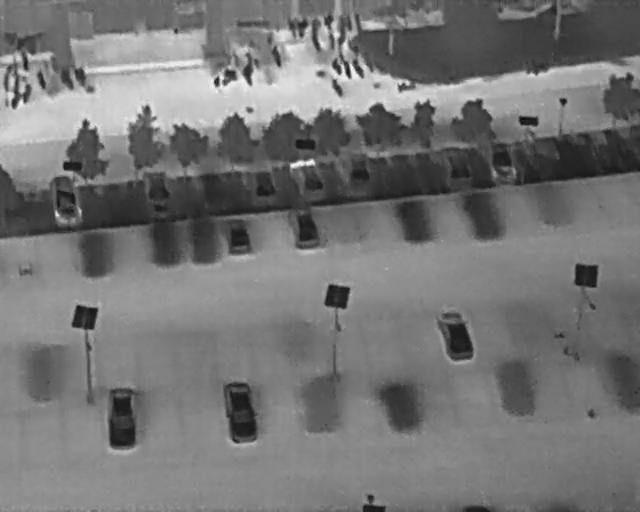Bicycle: (56, 66, 78, 93), (69, 64, 91, 91), (218, 67, 239, 90), (327, 76, 348, 99), (31, 68, 51, 92), (349, 57, 369, 81), (239, 62, 257, 88), (267, 44, 284, 69), (523, 60, 548, 77), (6, 88, 24, 111), (327, 55, 345, 78), (395, 77, 418, 95), (308, 34, 325, 57), (19, 81, 34, 107), (285, 16, 300, 41), (332, 29, 349, 51), (339, 58, 355, 81), (332, 45, 350, 65), (17, 48, 31, 72), (322, 15, 338, 36), (0, 66, 12, 92), (9, 71, 22, 94), (7, 53, 20, 75), (296, 18, 308, 39), (309, 17, 323, 35), (335, 16, 348, 33), (328, 32, 336, 49)
Car: (218, 376, 261, 448), (432, 305, 478, 367), (103, 385, 140, 452), (46, 172, 84, 229), (140, 167, 175, 216), (484, 138, 519, 186), (288, 155, 326, 199), (438, 142, 473, 188), (246, 163, 279, 209), (288, 208, 322, 252), (221, 216, 254, 258), (345, 150, 373, 186)
